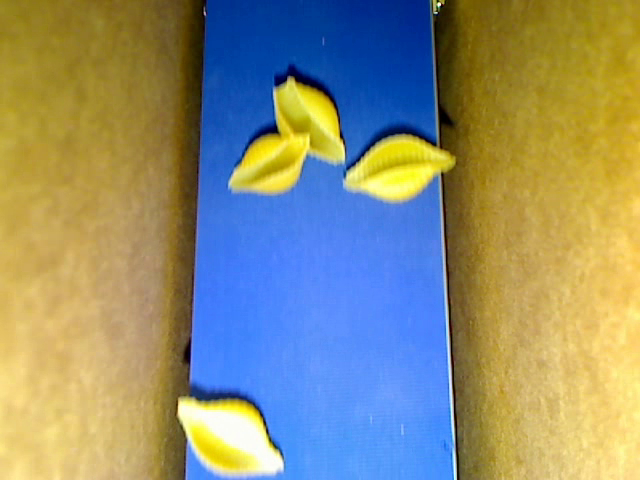shell: (176, 394, 285, 476), (344, 133, 457, 203), (272, 77, 345, 165), (225, 132, 310, 198)
